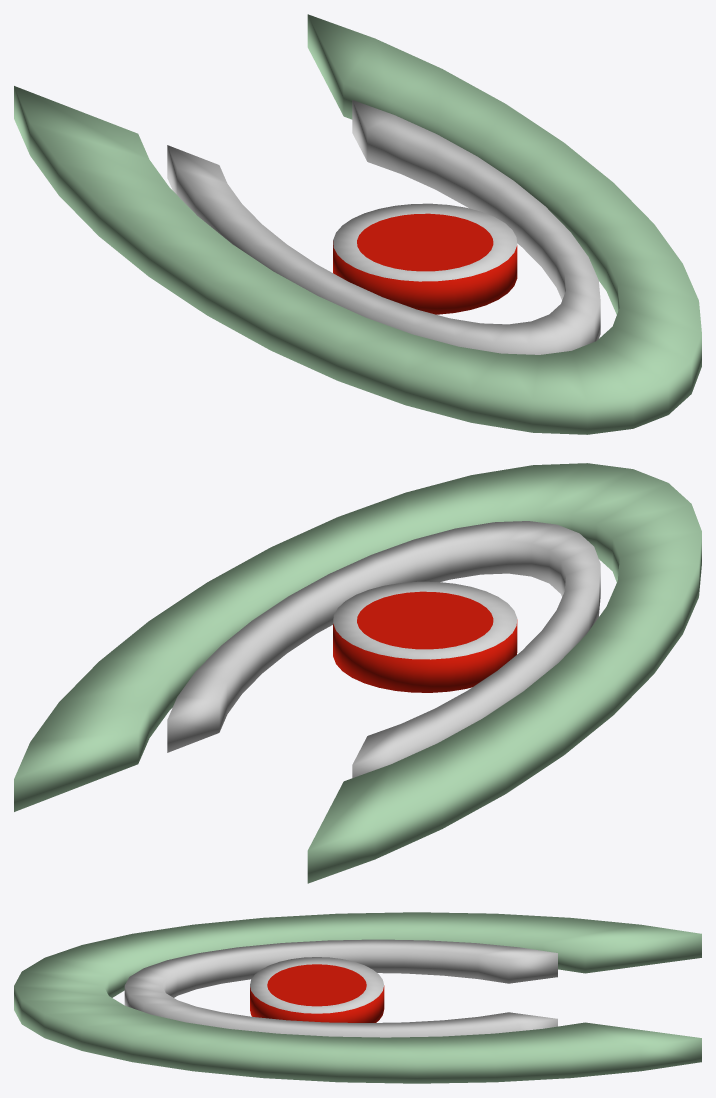
File: bouy3.fbx
3 renders of one model, top to bottom at view 1: azimuth 30°, elevation 25°; view 2: azimuth 150°, elevation 25°; view 3: azimuth 270°, elevation 25°, orthographic. The views are drawn at different scales.
Parts seen in each view (by area): view 1: buoy3; view 2: buoy3; view 3: buoy3.
Boxes of the visible parts, x1,y1,x2,y2 form: buoy3: (14, 14, 701, 434); buoy3: (14, 463, 701, 883); buoy3: (14, 912, 701, 1083).
Bounding box in the file's own units: 1.56 × 0.1216 × 3.07.
